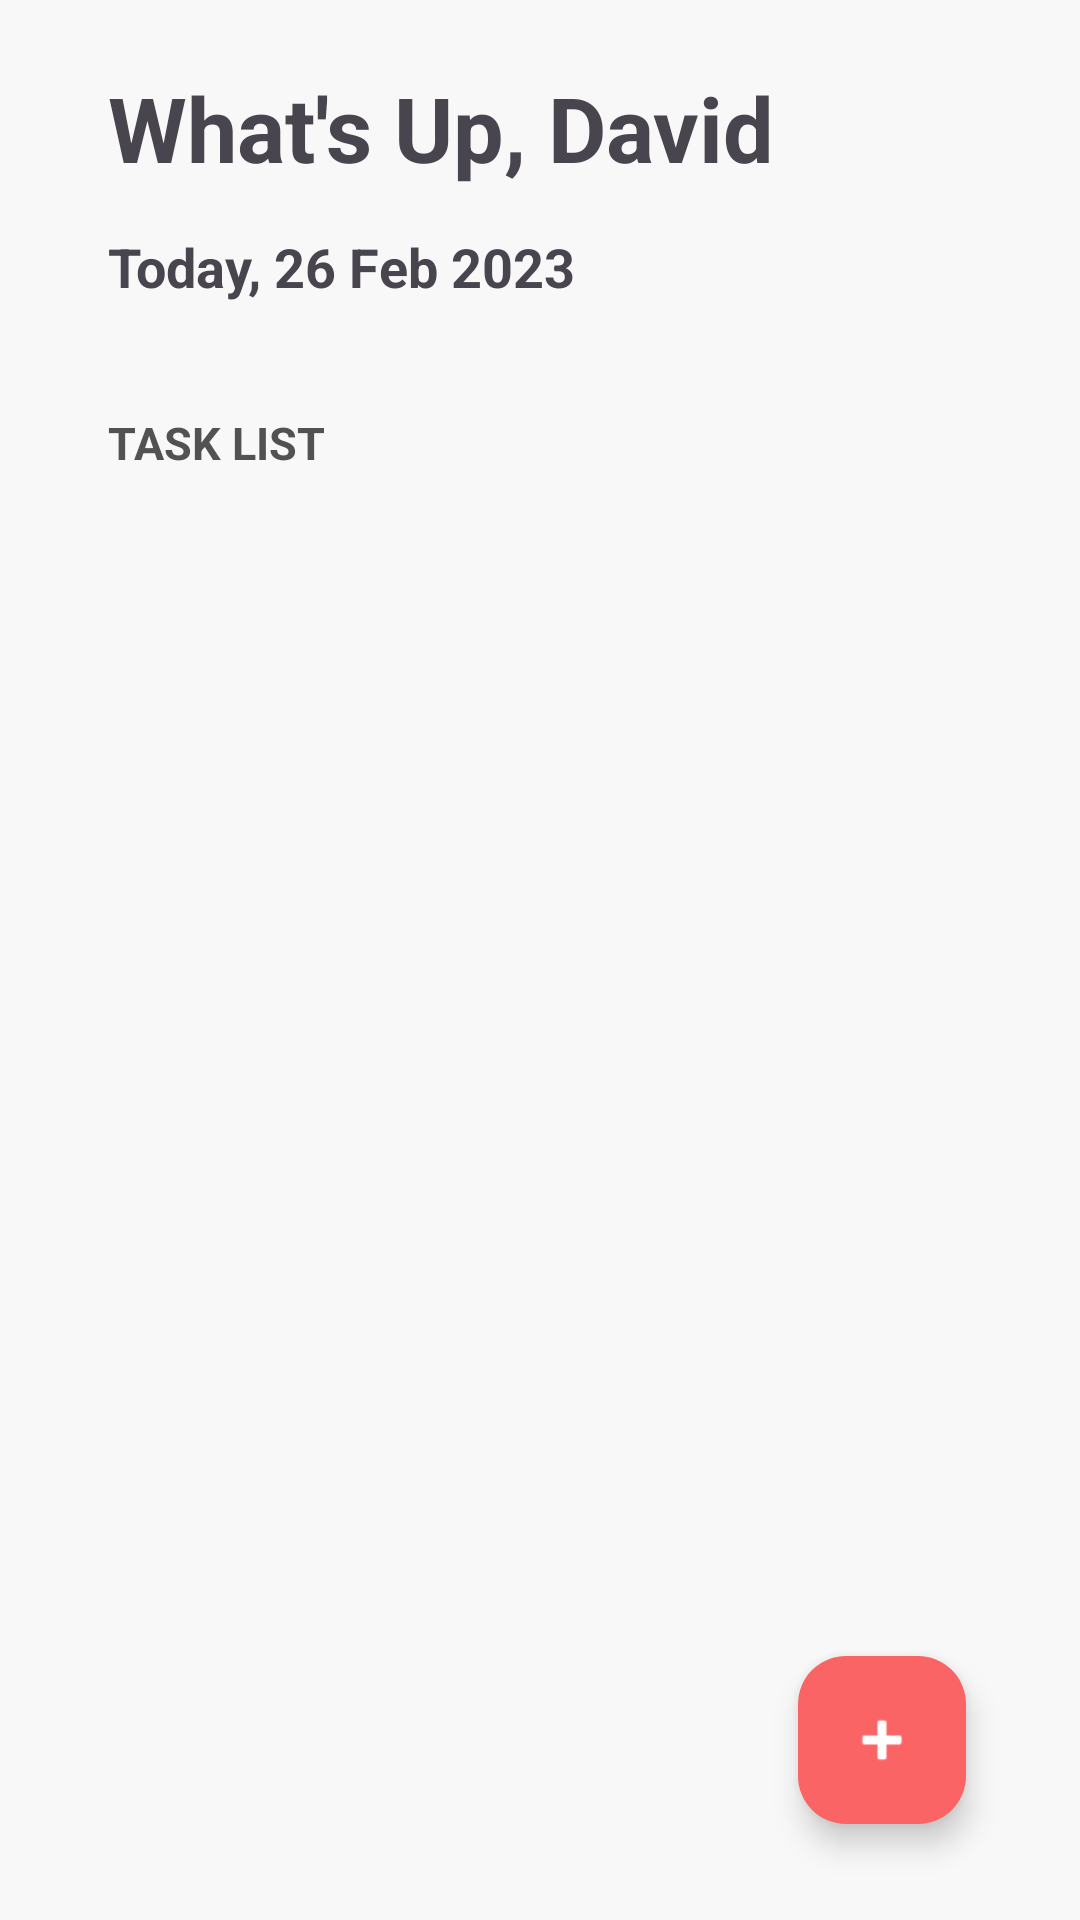

Icon click points for this 1080w x 1920h phone screenshot, format (x,y):
add: (882,1740)
